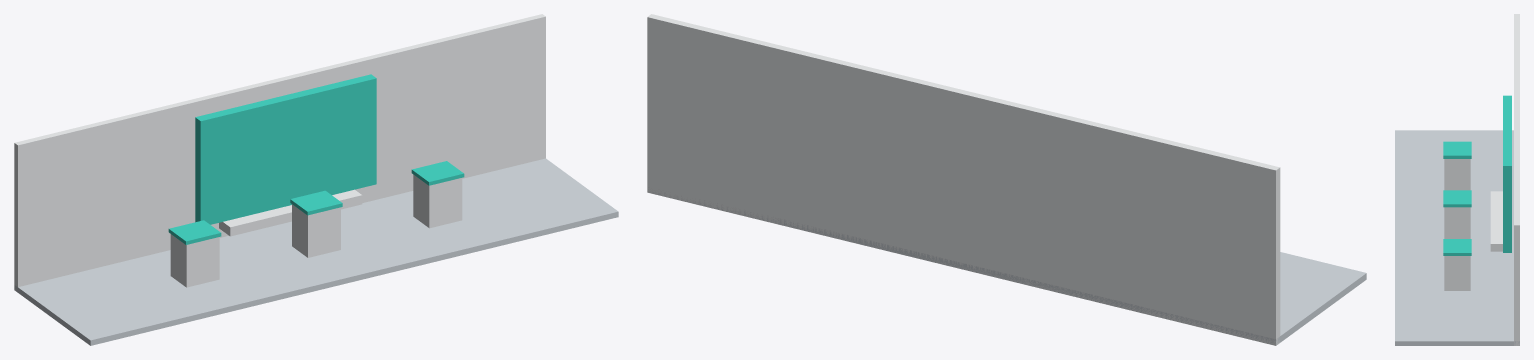
The picture shows the model from 3 angles, left to right: view 1: azimuth 30°, elevation 25°; view 2: azimuth 150°, elevation 25°; view 3: azimuth 270°, elevation 25°; orthographic projection. The views are drawn at different scales.
Parts seen in each view (by area): view 1: Exhibition Booth Concept; view 2: Exhibition Booth Concept; view 3: Exhibition Booth Concept.
Part boxes in pixels (<box>): Exhibition Booth Concept: <box>14,14,618,345</box>; Exhibition Booth Concept: <box>647,14,1366,345</box>; Exhibition Booth Concept: <box>1395,14,1519,345</box>.
Bounding box in the file's own units: 12 × 3.2 × 3.
